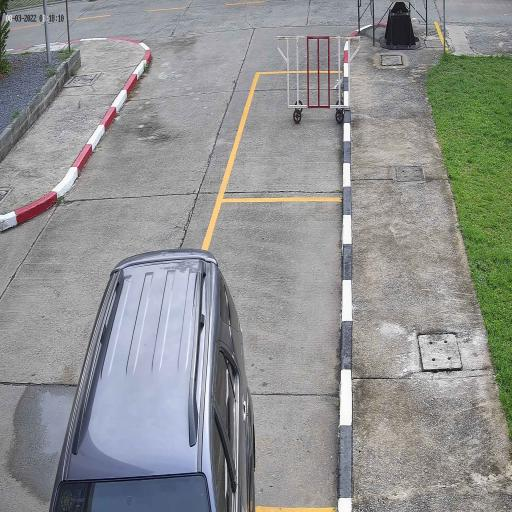car: (48, 246, 258, 512)
